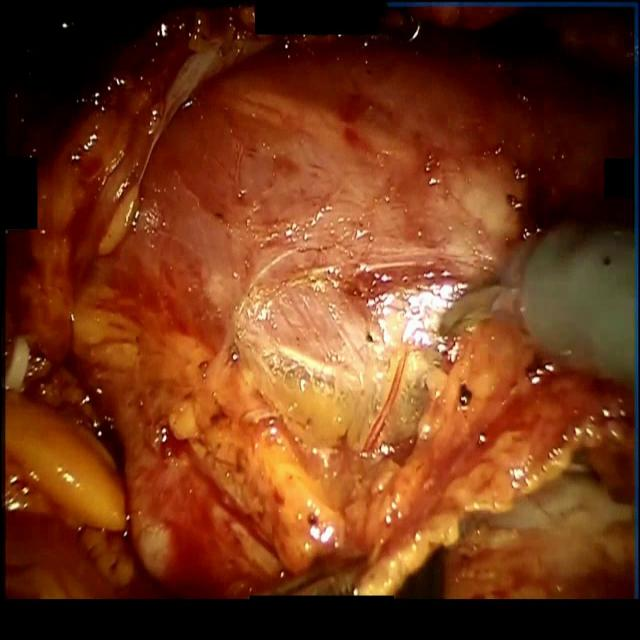surgical-area: (4, 0, 634, 605)
surgical-tool: (440, 216, 634, 384)
